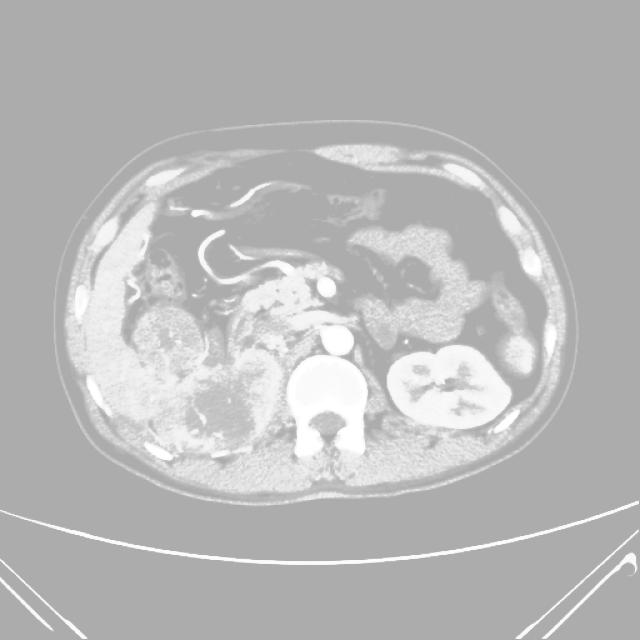TUMOR: (129, 213, 557, 440)
